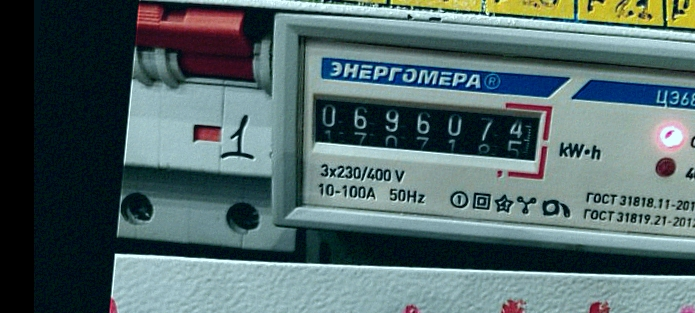0: (320, 102, 341, 129), (446, 111, 466, 139)
4: (508, 116, 526, 139)
5: (506, 139, 524, 160)
6: (414, 108, 435, 137), (352, 104, 372, 131)
7: (478, 115, 496, 143)
9: (383, 106, 402, 134)
screen: (298, 80, 558, 184)
